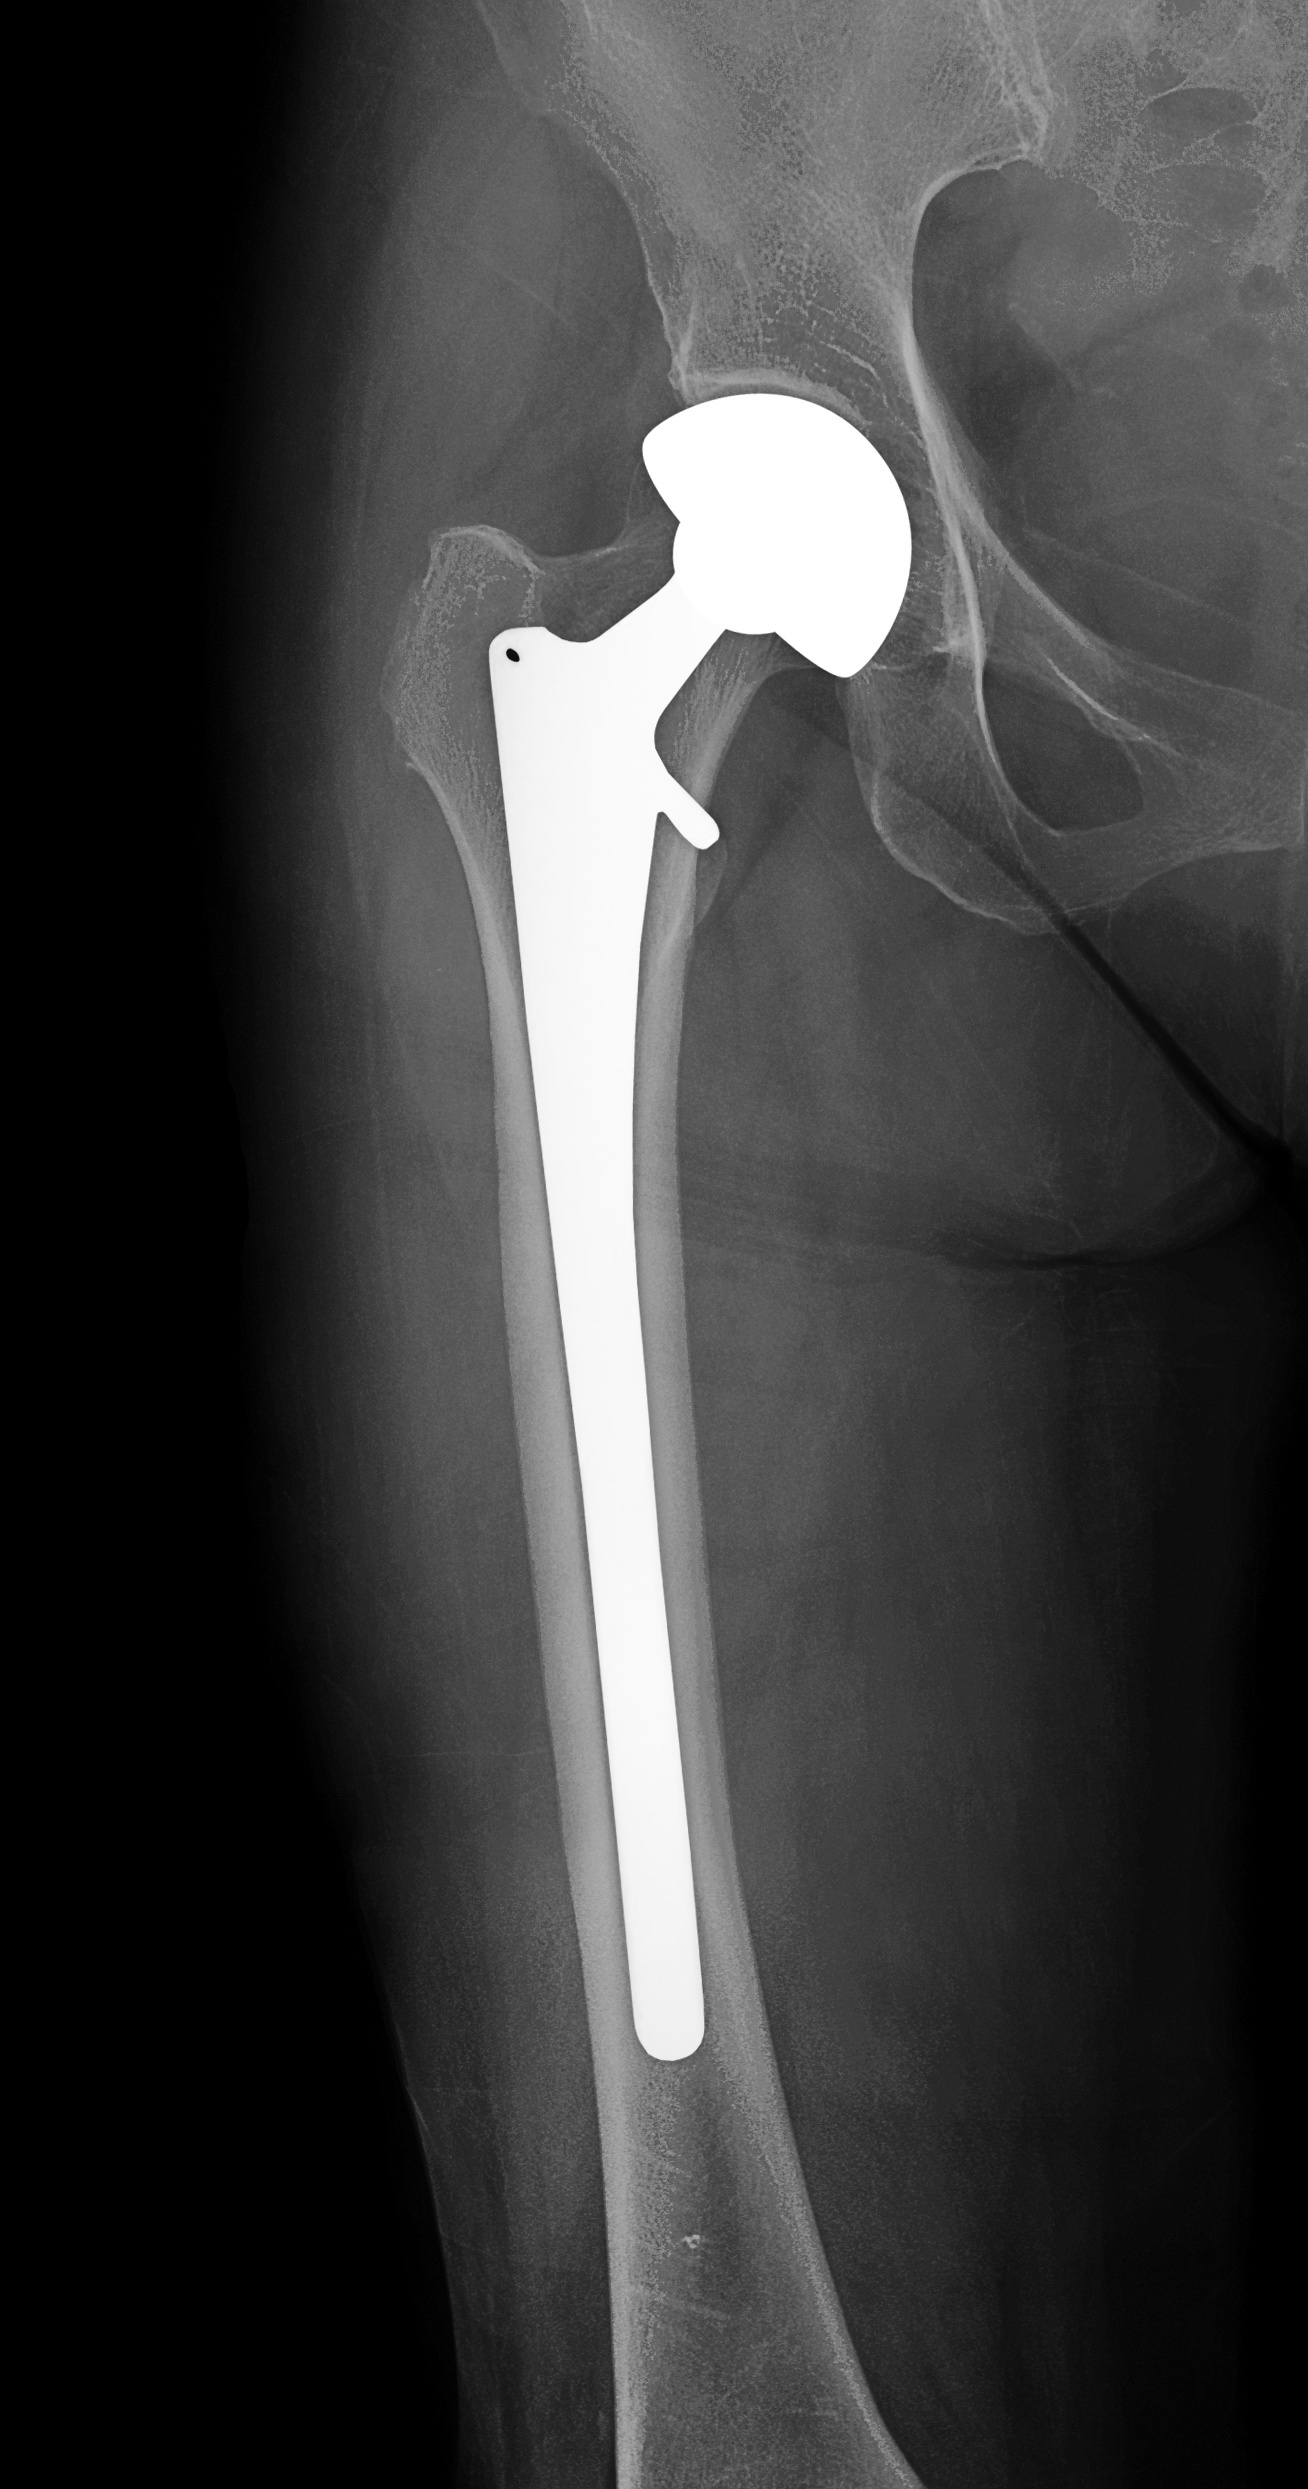Hip - Bias - Zimmer: (400, 344, 962, 2180)
